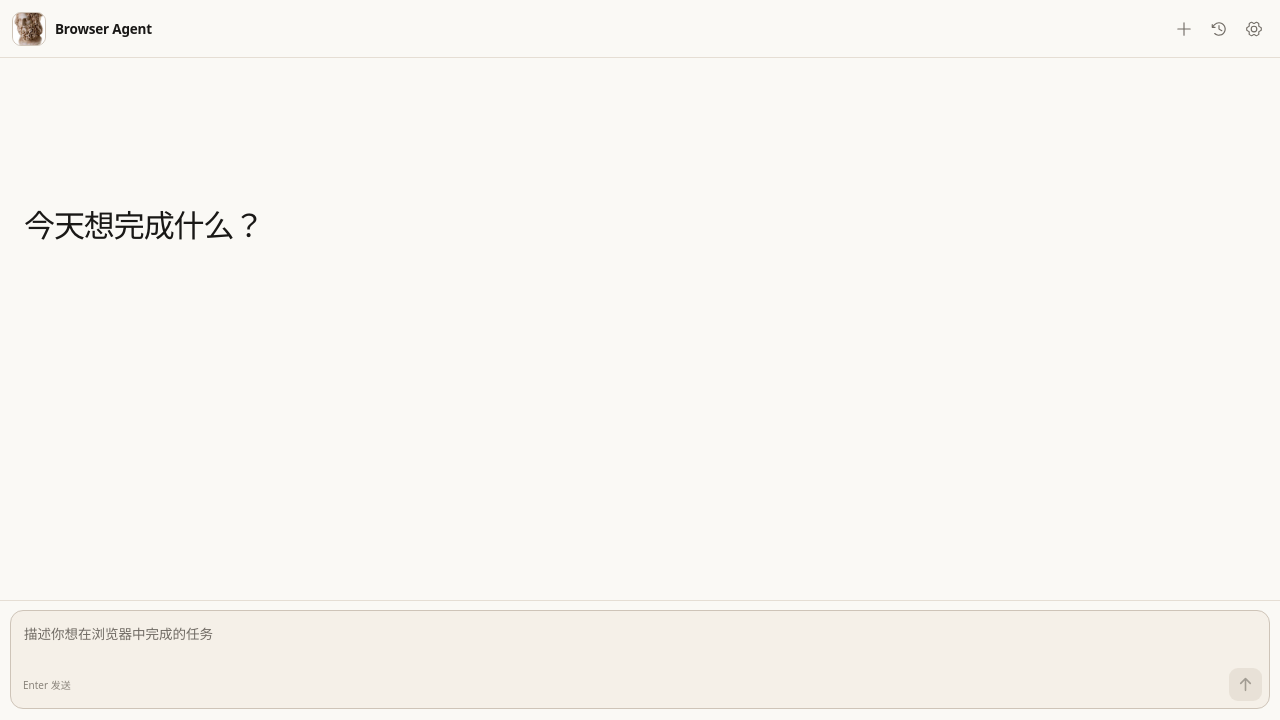
it: Browser Agent 侧边栏 › 首页允许先输入任务，发送后再选择浏览器并继续执行
expect the text "Browser Agent" is shown: met, box [55,20,152,38]
expect the heading "今天想完成什么？" is shown: met, box [24,208,304,245]
Type "整理首页信息" into the text box with placeholder "描述你想在浏览器中完成的任务" at (640, 638), box [11,611,1269,665]
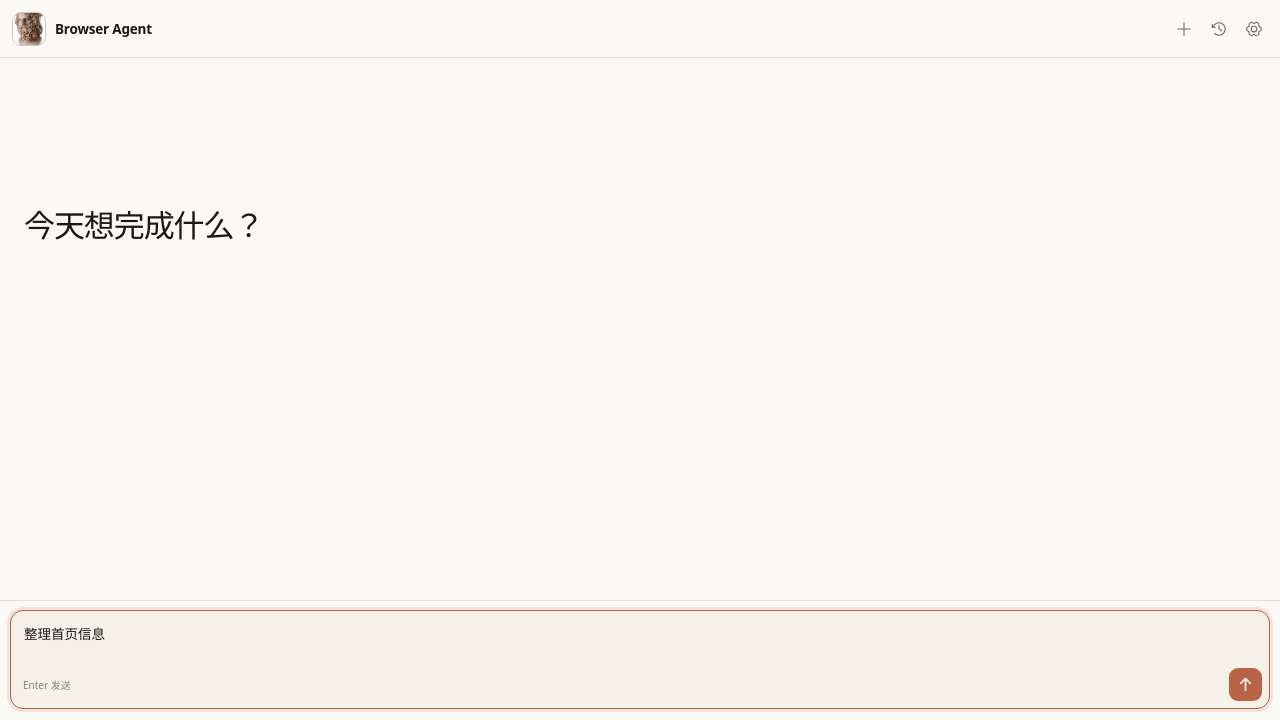
Click the button named "发送任务" at (1246, 684), box [1229,668,1262,701]
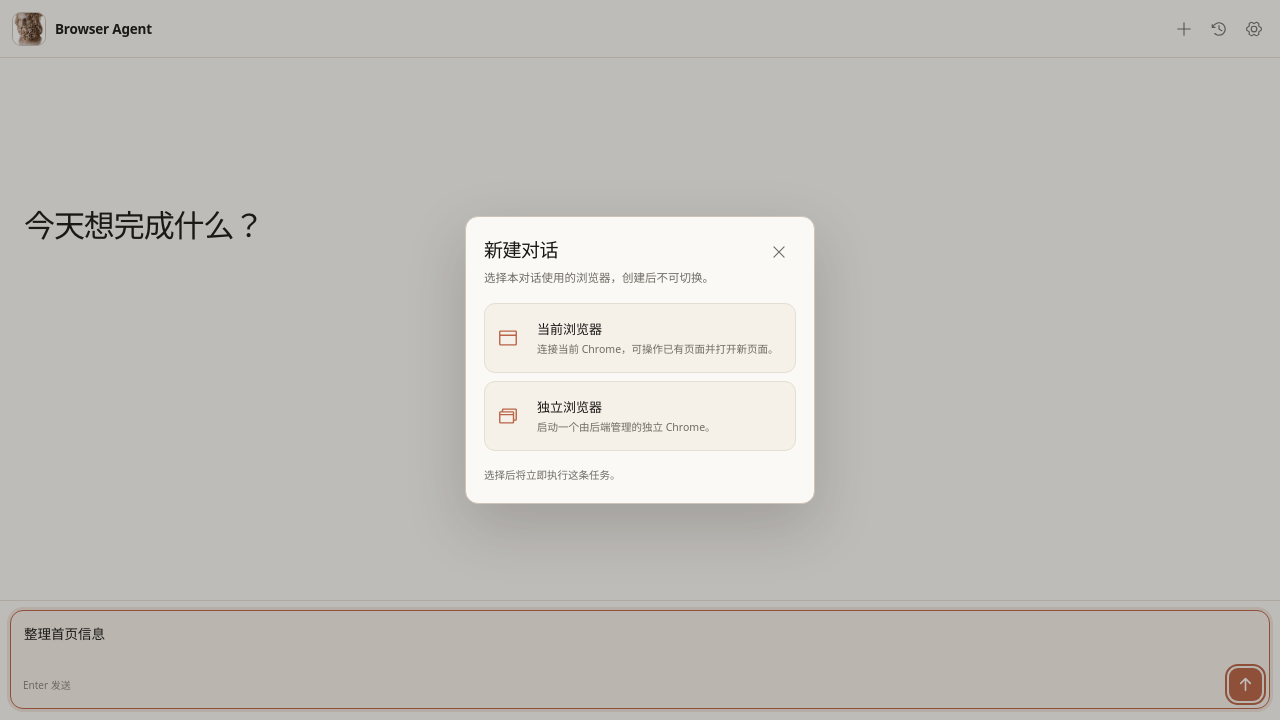
Click the button with aria-label "使用独立浏览器" at (570, 407), box [484,381,796,451]
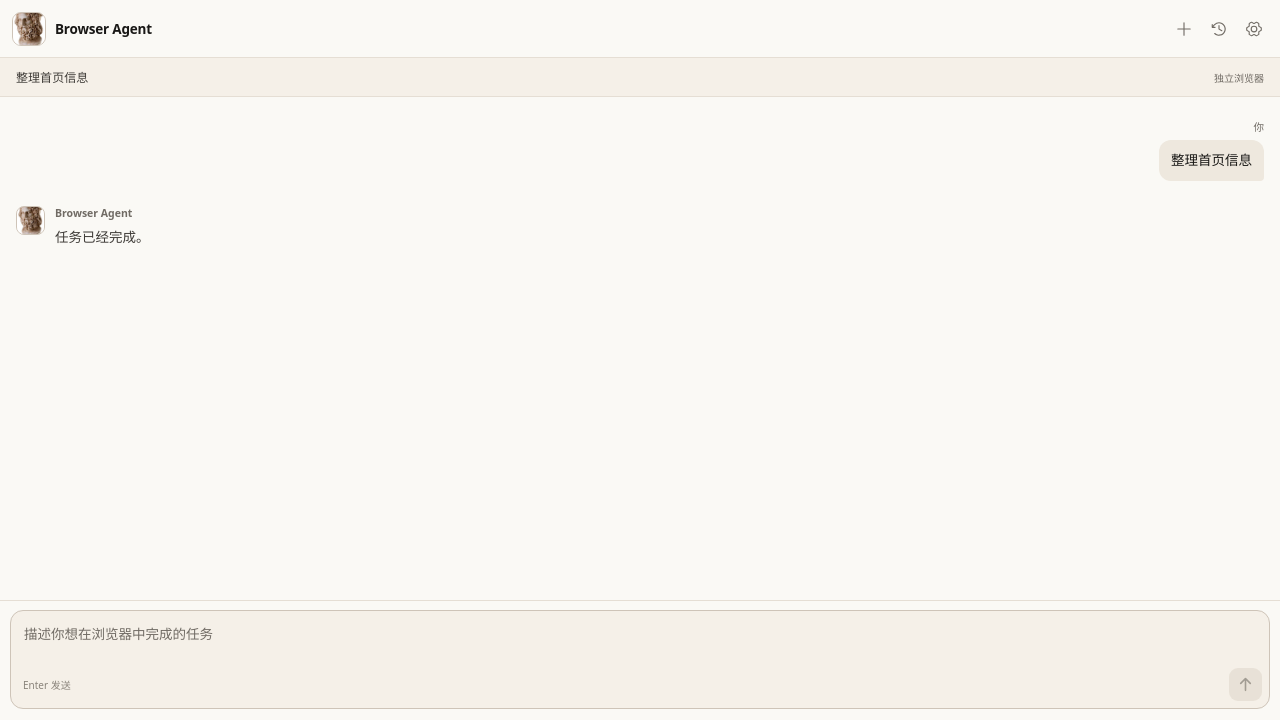
expect the text "任务已经完成。" is shown: met, box [55,226,150,248]
expect the text box with placeholder "描述你想在浏览器中完成的任务" is empty: met, box [11,611,1269,665]
